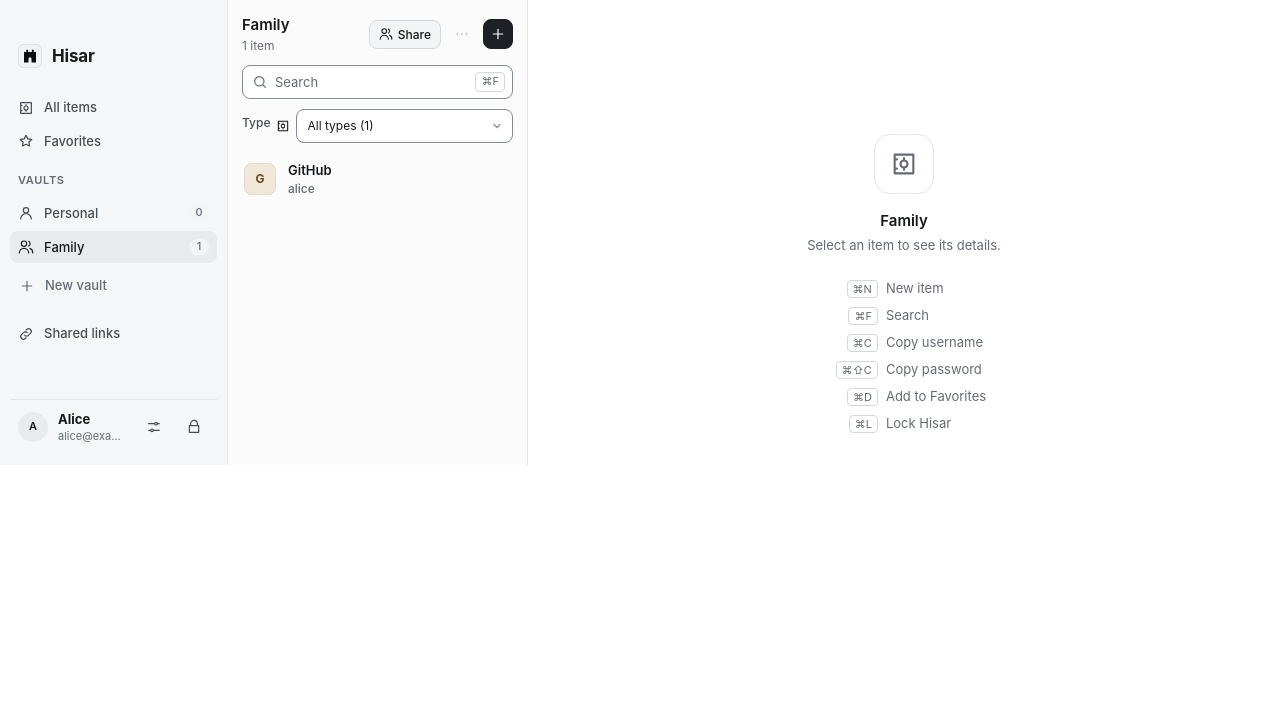
it: Vault sharing panel › keeps role failures at the affected member
Click the button with test id "share-vault". click: (405, 34)
box: x1=369 y1=20 x2=441 y2=49
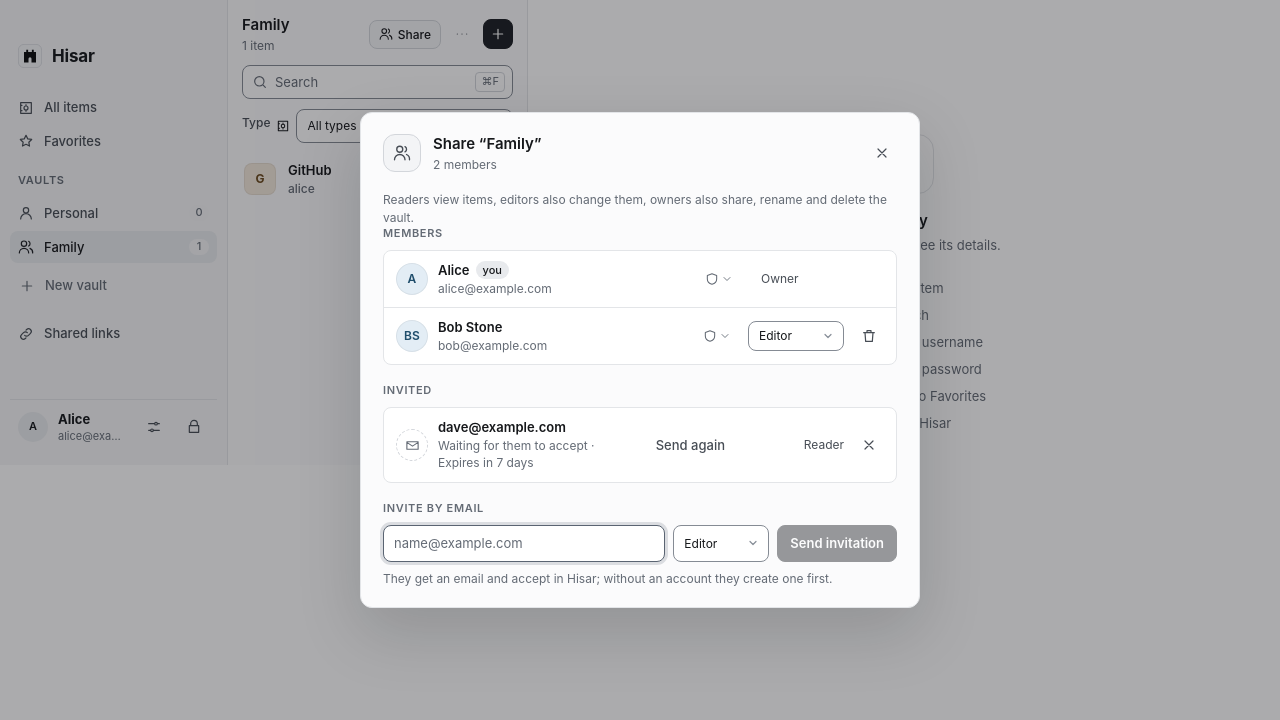
Select "Reader" in the dropdown with test id "role-select-BOB222". click: (796, 336)
box: x1=748 y1=322 x2=844 y2=351
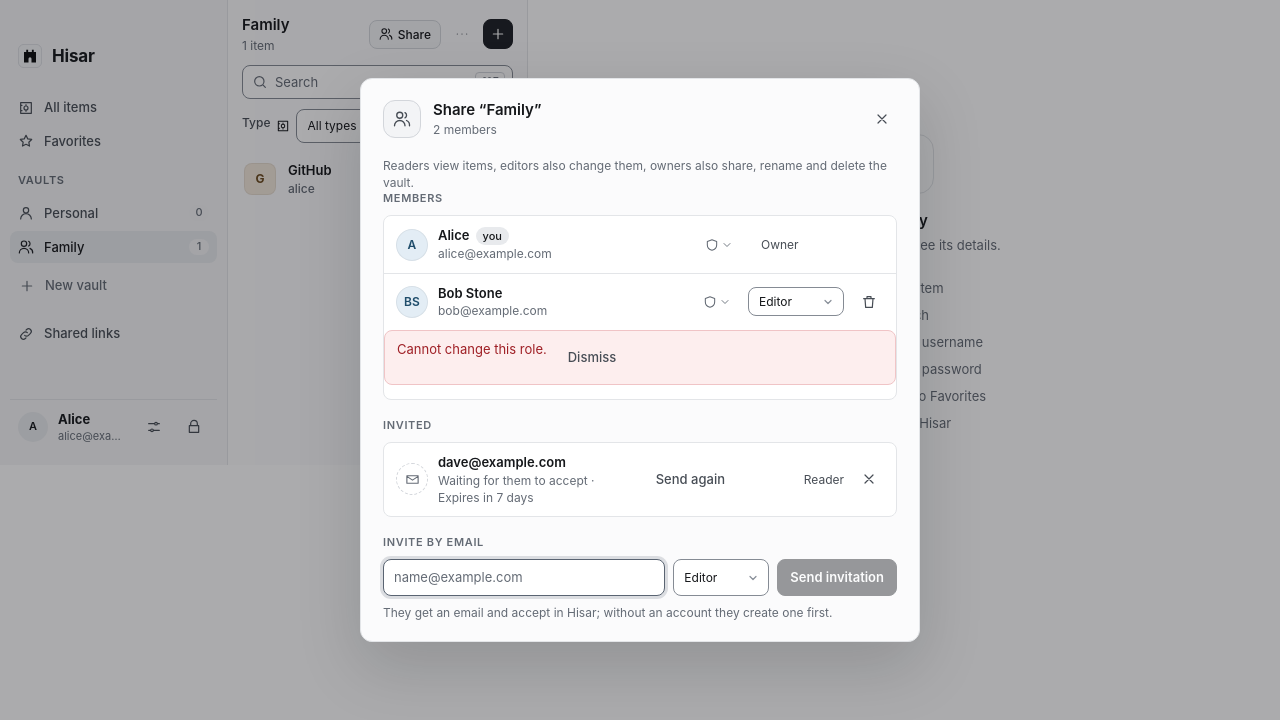
Now the message "Cannot change this role. Dismiss" is shown, box x1=384 y1=330 x2=896 y2=385
